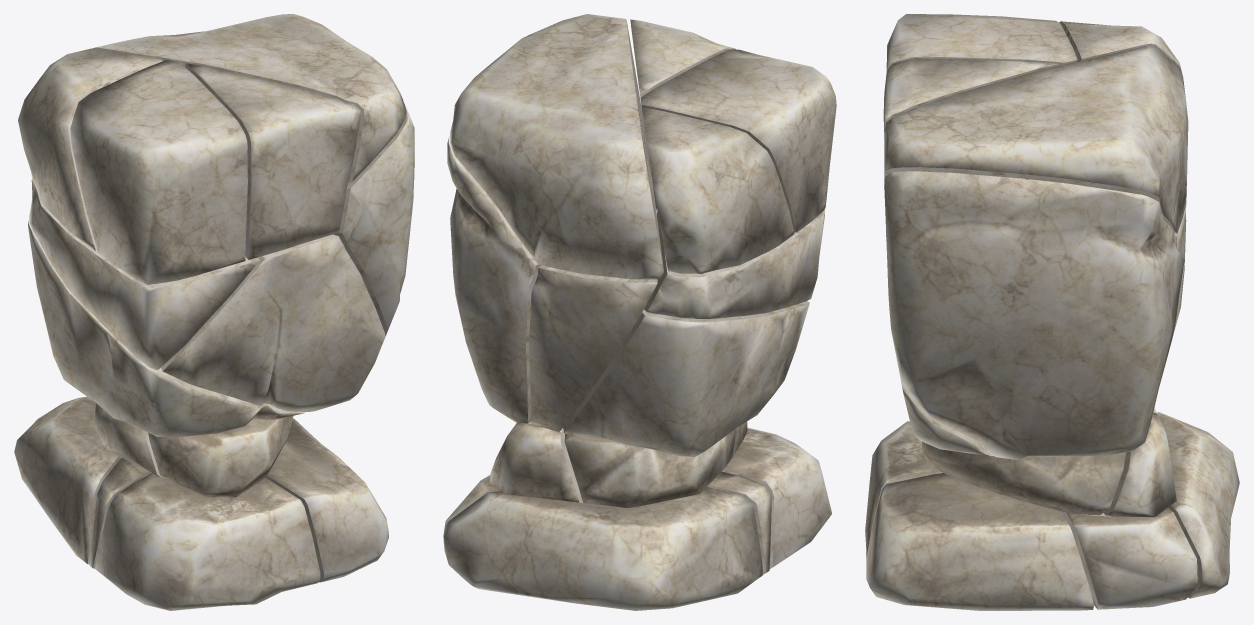
The model's file is SM_Stone4_Pieces.fbx.
3 renders of one model, left to right at view 1: azimuth 30°, elevation 25°; view 2: azimuth 150°, elevation 25°; view 3: azimuth 270°, elevation 25°, orthographic. The views are drawn at different scales.
Visible parts, largest first — view 1: SM_Stone4_Pieces_3, SM_Stone4_Pieces_12, SM_Stone4_Pieces_4, SM_Stone4_Pieces_10, SM_Stone4_Pieces_13, SM_Stone4_Pieces_5, SM_Stone4_Pieces_1, SM_Stone4_Pieces_2, SM_Stone4_Pieces_15, SM_Stone4_Pieces_16, SM_Stone4_Pieces_7, SM_Stone4_Pieces_11 (+2 smaller); view 2: SM_Stone4_Pieces_13, SM_Stone4_Pieces_7, SM_Stone4_Pieces_5, SM_Stone4_Pieces_2, SM_Stone4_Pieces_3, SM_Stone4_Pieces_16, SM_Stone4_Pieces_9, SM_Stone4_Pieces_1, SM_Stone4_Pieces_6, SM_Stone4_Pieces_4, SM_Stone4_Pieces_14, SM_Stone4_Pieces_10 (+1 smaller); view 3: SM_Stone4_Pieces_16, SM_Stone4_Pieces_13, SM_Stone4_Pieces_15, SM_Stone4_Pieces_8, SM_Stone4_Pieces_7, SM_Stone4_Pieces_11, SM_Stone4_Pieces_3, SM_Stone4_Pieces_10, SM_Stone4_Pieces_14, SM_Stone4_Pieces_4, SM_Stone4_Pieces_2, SM_Stone4_Pieces_12 (+1 smaller).
Boxes of the visible parts, x1,y1,x2,y2 form: SM_Stone4_Pieces_3: (70,60,247,284); SM_Stone4_Pieces_12: (161,234,385,411); SM_Stone4_Pieces_4: (95,473,320,610); SM_Stone4_Pieces_10: (185,63,360,259); SM_Stone4_Pieces_13: (92,14,405,183); SM_Stone4_Pieces_5: (28,220,305,437); SM_Stone4_Pieces_1: (29,178,259,369); SM_Stone4_Pieces_2: (18,48,162,250); SM_Stone4_Pieces_15: (266,419,388,582); SM_Stone4_Pieces_16: (333,103,414,335); SM_Stone4_Pieces_7: (14,396,121,564); SM_Stone4_Pieces_11: (148,415,293,497); SM_Stone4_Pieces_13: (450,14,663,279); SM_Stone4_Pieces_7: (443,487,763,610); SM_Stone4_Pieces_5: (563,301,809,457); SM_Stone4_Pieces_2: (641,107,794,273); SM_Stone4_Pieces_3: (640,49,836,232); SM_Stone4_Pieces_16: (447,99,643,423); SM_Stone4_Pieces_9: (529,265,657,431); SM_Stone4_Pieces_1: (644,210,825,318); SM_Stone4_Pieces_6: (564,429,735,507); SM_Stone4_Pieces_4: (722,427,831,568); SM_Stone4_Pieces_14: (490,422,581,502); SM_Stone4_Pieces_10: (630,19,735,97); SM_Stone4_Pieces_16: (884,171,1184,460); SM_Stone4_Pieces_13: (884,45,1188,233); SM_Stone4_Pieces_15: (866,473,1093,610); SM_Stone4_Pieces_8: (1061,507,1198,609); SM_Stone4_Pieces_7: (1157,412,1239,598); SM_Stone4_Pieces_11: (921,441,1125,515); SM_Stone4_Pieces_3: (886,14,1077,70); SM_Stone4_Pieces_10: (883,58,1059,143); SM_Stone4_Pieces_14: (1104,414,1176,516); SM_Stone4_Pieces_4: (865,421,942,559); SM_Stone4_Pieces_2: (1059,21,1183,82); SM_Stone4_Pieces_12: (900,379,992,456).
Size of the model in its own units: 0.8606 by 1.34 by 0.9159.
